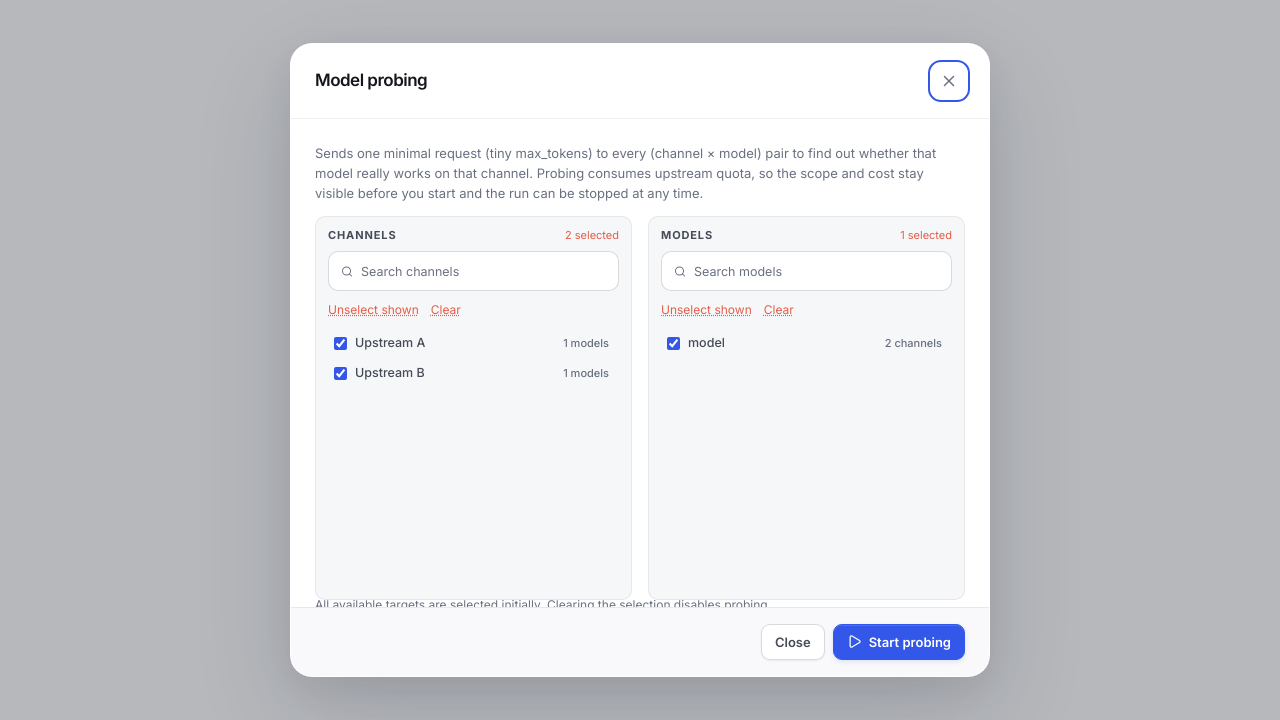
sets the scheduled scope from the current selection and keeps the rest of the settings
// Narrow the run to one channel: the schedule no longer covers it.
Click the checkbox labelled "Upstream A 1 models" at (340, 344), box left=334, top=337, right=347, bottom=350
(page scrolled)
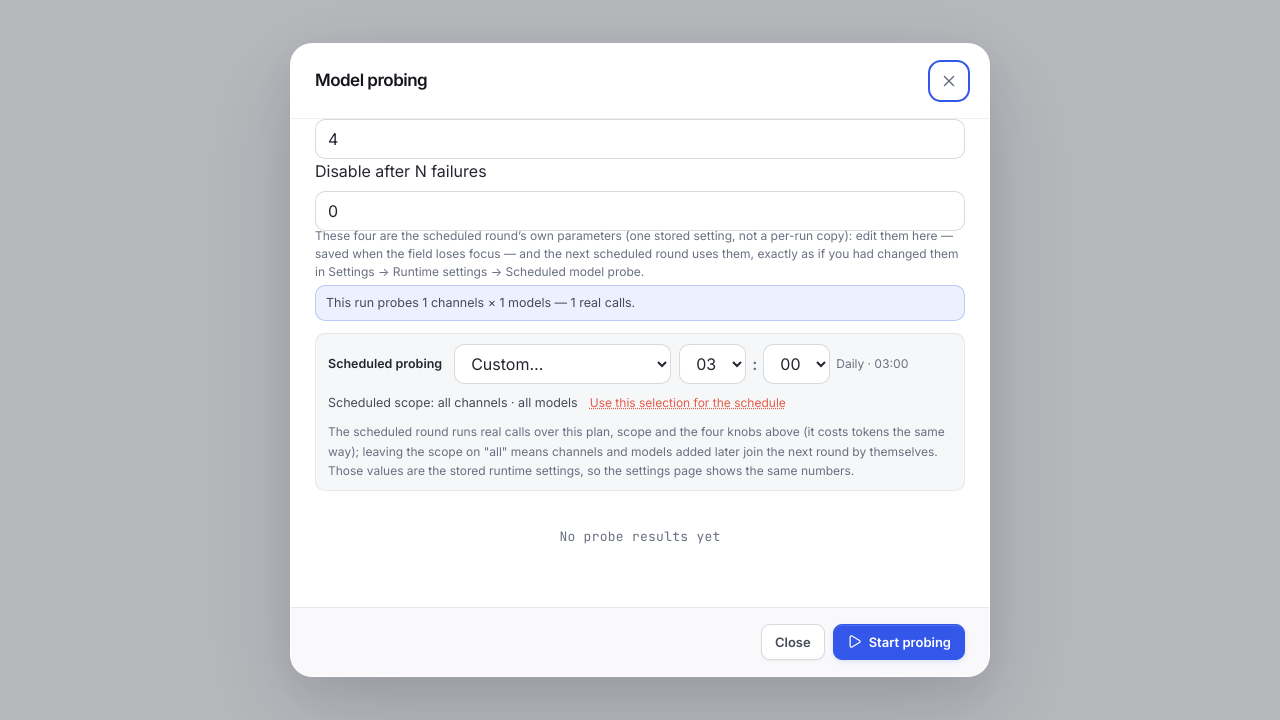
Click the button "Use this selection for the schedule" at (688, 403), box left=590, top=392, right=786, bottom=414
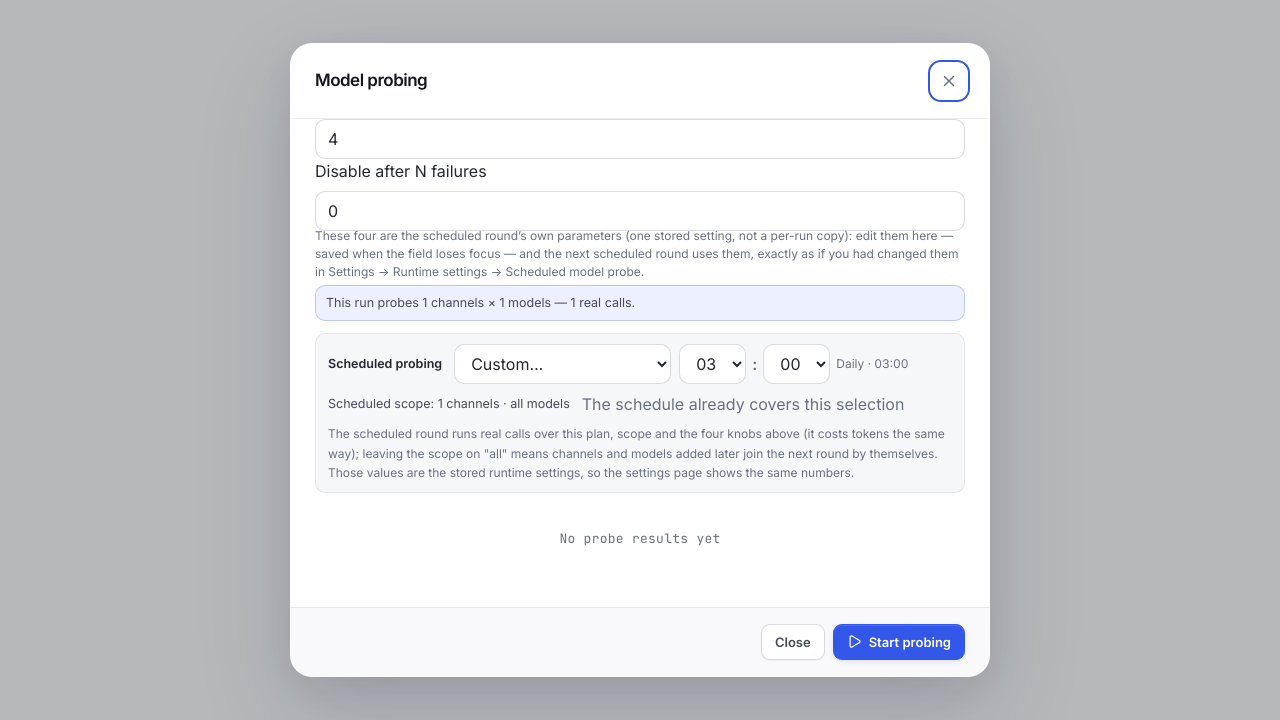
Check: the text "Scheduled scope: 1 channels · all models" is shown, box left=328, top=395, right=570, bottom=414
